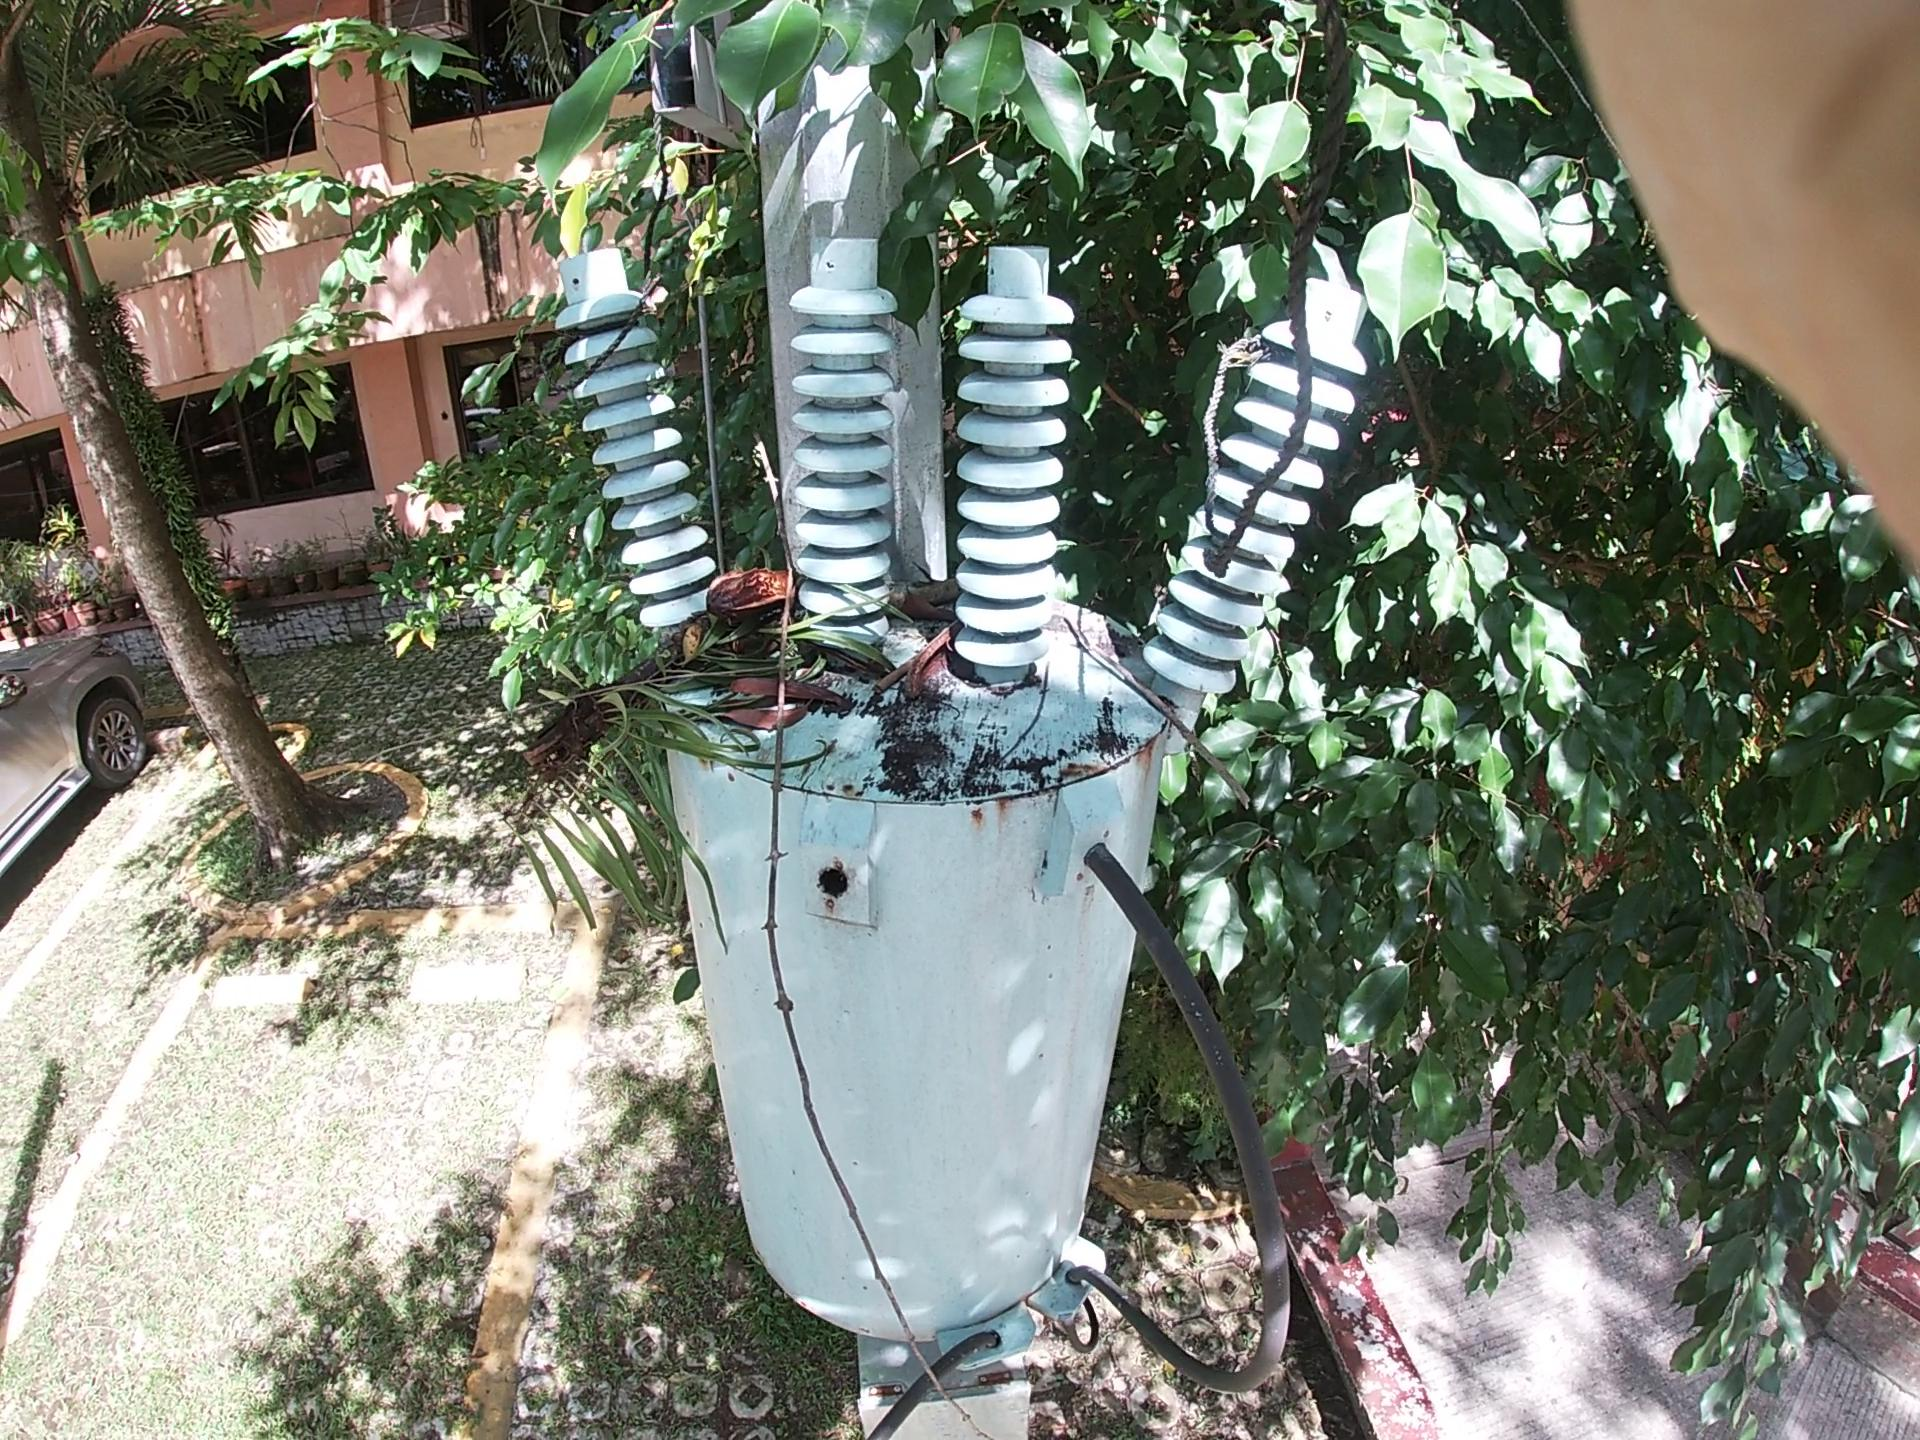branch with leaves: (519, 523, 807, 942)
leaf: (735, 637, 881, 877)
mahogany fruit: (854, 579, 996, 753), (689, 522, 813, 653)
tree branch: (701, 451, 974, 1252), (1025, 545, 1314, 812), (831, 493, 996, 764)
